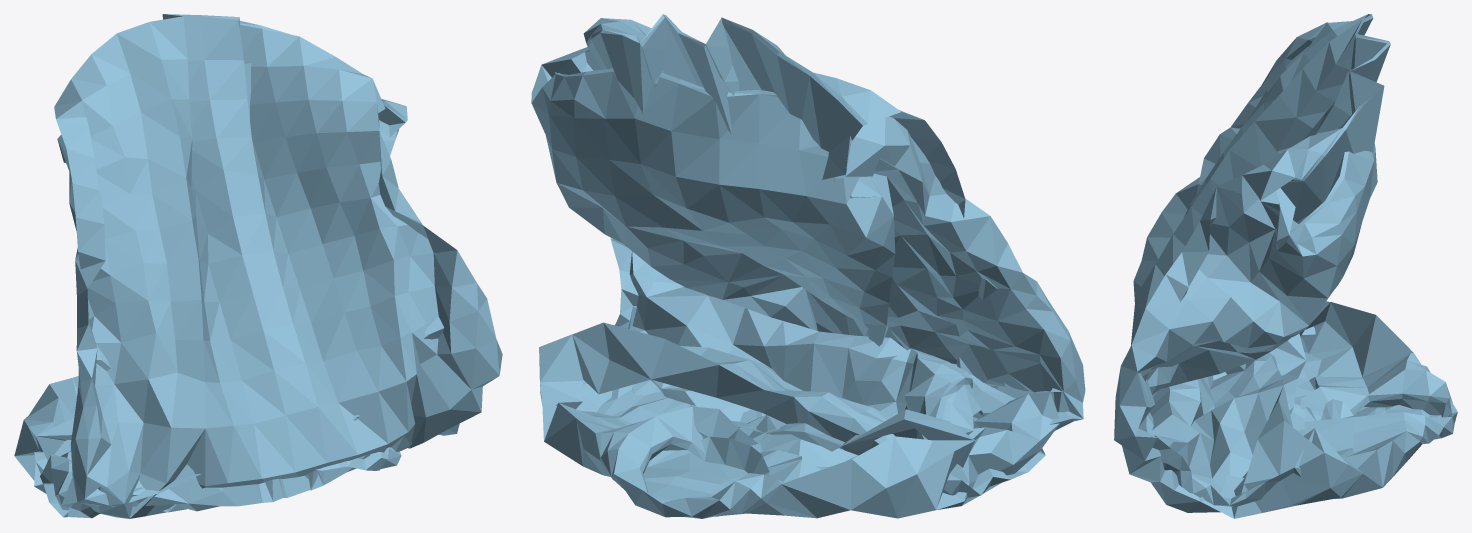
File: frame_16.glb
3 renders of one model, left to right at view 1: azimuth 30°, elevation 25°; view 2: azimuth 150°, elevation 25°; view 3: azimuth 270°, elevation 25°, orthographic. The views are drawn at different scales.
Visible parts, largest first — view 1: frame_16.obj; view 2: frame_16.obj; view 3: frame_16.obj.
Part boxes in pixels (x1,y1,x2,y2): frame_16.obj: (14, 14, 502, 518); frame_16.obj: (531, 14, 1085, 518); frame_16.obj: (1114, 14, 1457, 518).
Bounding box in the file's own units: 1.07 × 0.997 × 0.7586.
